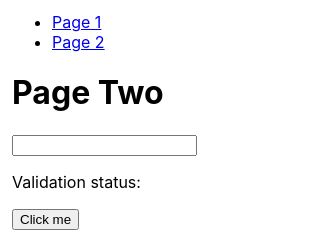
it: Page Two Test › Validates text input
Type "two" into the field at (105, 146), box [12, 135, 197, 156]
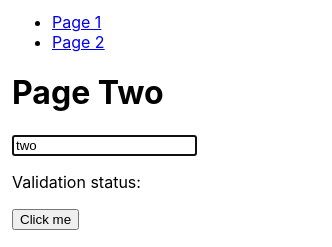
Click the button "Click me" at (46, 220), box [12, 209, 79, 230]
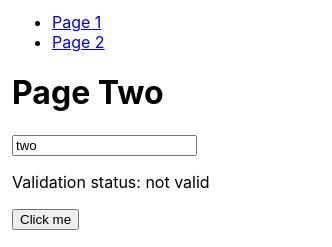
Expected: the text "Validation status: not valid" is shown, [12, 172, 210, 192]
